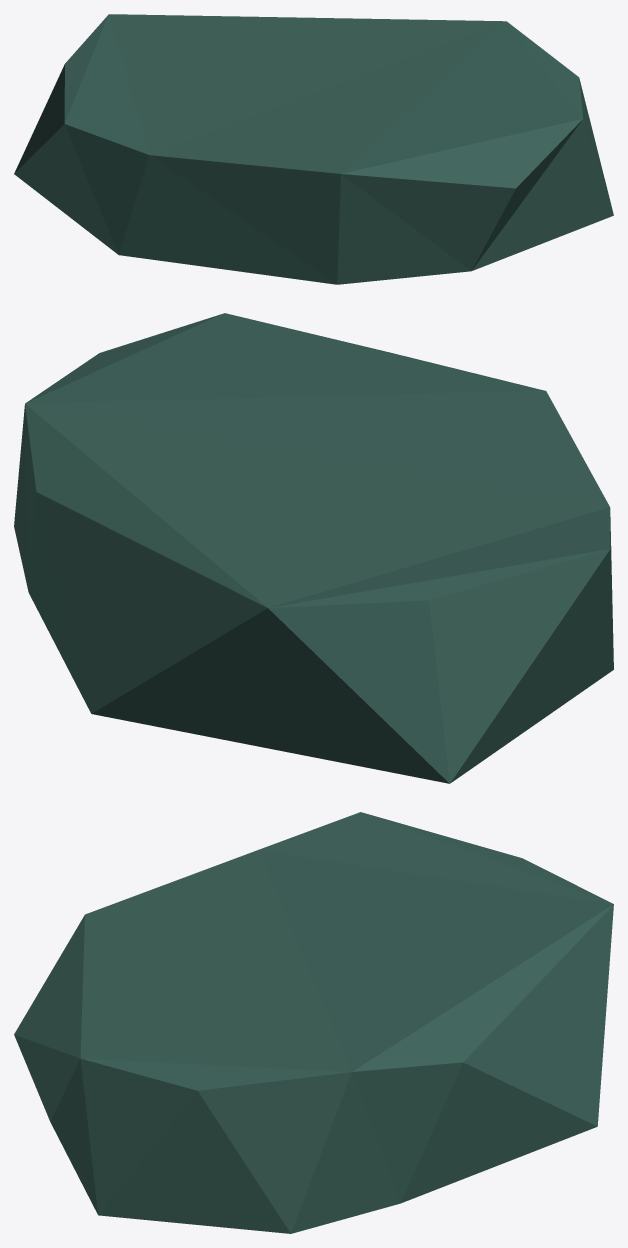
Rendered from Stone_20.fbx.
The picture shows the model from 3 angles, top to bottom: view 1: azimuth 30°, elevation 25°; view 2: azimuth 150°, elevation 25°; view 3: azimuth 270°, elevation 25°; orthographic projection. The views are drawn at different scales.
Parts seen in each view (by area): view 1: Stone 20; view 2: Stone 20; view 3: Stone 20.
Part boxes in pixels (box(x1,y1,x2,y2)): Stone 20: box(14, 14, 613, 284); Stone 20: box(14, 313, 613, 783); Stone 20: box(14, 812, 613, 1233).
Bounding box in the file's own units: 305 × 75.42 × 278.
